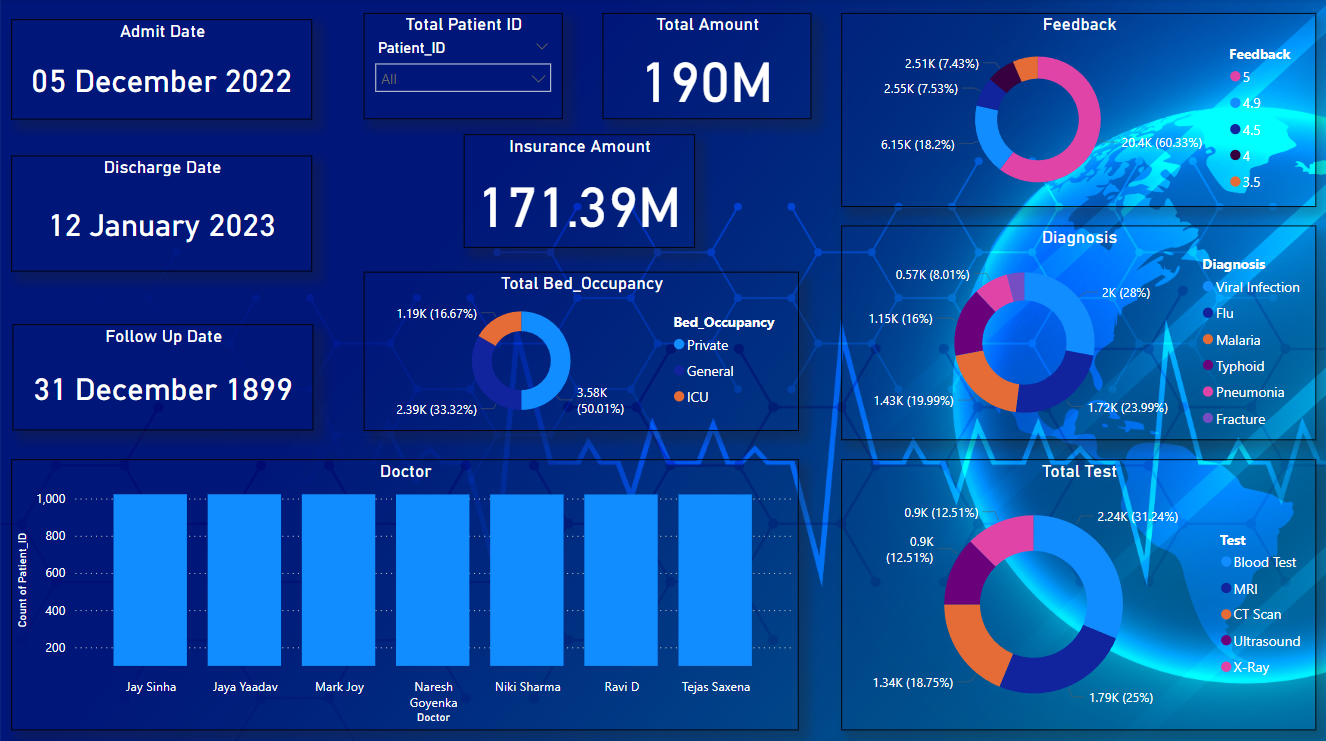

The page's visual inventory and layout, read from the dashboard file:
{"tool":"powerbi","page":{"name":"Page 1","canvas":[1280,720],"ordinal":0},"visuals":[{"type":"card","title":"Admit Date","fields":{"Values":["Sheet1.Admit_Date"]},"box":[10.9,20.5,290.8,96.5],"z":0},{"type":"slicer","title":"Total Patient ID","fields":{"Values":["Sheet1.Patient_ID"]},"box":[351.1,14.5,191.8,102.5],"z":1000},{"type":"columnChart","title":"Doctor","fields":{"Category":["Sheet1.Doctor"],"Y":["Sheet1.Patient_ID"]},"box":[10.9,445.2,760.1,261.8],"z":2000},{"type":"donutChart","title":"Total Bed_Occupancy","fields":{"Category":["Sheet1.Bed_Occupancy"],"Y":["Sheet1.Patient_ID"]},"box":[351.1,264.2,419.8,153.2],"z":3000},{"type":"donutChart","title":"Total Test","fields":{"Category":["Sheet1.Test"],"Y":["Sheet1.Patient_ID"]},"box":[811.9,445.2,458.4,261.8],"z":4000},{"type":"card","title":"Total Amount","fields":{"Values":["Sheet1.Billing Amount"]},"box":[581.5,14.5,201.5,102.5],"z":5000},{"type":"donutChart","title":" Diagnosis ","fields":{"Category":["Sheet1.Diagnosis"],"Y":["Sheet1.Diagnosis"]},"box":[811.9,219.6,458.4,207.5],"z":6000},{"type":"card","title":"Insurance Amount","fields":{"Values":["Sheet1.Health Insurance Amount"]},"box":[447.6,131.5,223.2,109.8],"z":7000},{"type":"donutChart","title":"Feedback","fields":{"Category":["Sheet1.Feedback"],"Y":["Sheet1.Feedback"]},"box":[811.9,14.5,458.4,187],"z":8000},{"type":"card","title":"Follow Up Date","fields":{"Values":["Sheet1.Followup Date"]},"box":[12.1,314.9,290.8,102.5],"z":9000},{"type":"card","title":"Discharge Date","fields":{"Values":["Sheet1.Discharge_Date"]},"box":[10.9,152,290.8,112.2],"z":10000}]}

Visuals, with their boxes in screenshot pixels (x1, y1, x2, y2), scaled from the page's 1280x720 canvas onto the 1326x741 screenshot:
"Admit Date" card: 11,21,313,120
"Total Patient ID" slicer: 364,15,562,120
"Doctor" columnChart: 11,458,799,728
"Total Bed_Occupancy" donutChart: 364,272,799,430
"Total Test" donutChart: 841,458,1316,728
"Total Amount" card: 602,15,811,120
" Diagnosis " donutChart: 841,226,1316,440
"Insurance Amount" card: 464,135,695,248
"Feedback" donutChart: 841,15,1316,207
"Follow Up Date" card: 13,324,314,430
"Discharge Date" card: 11,156,313,272
